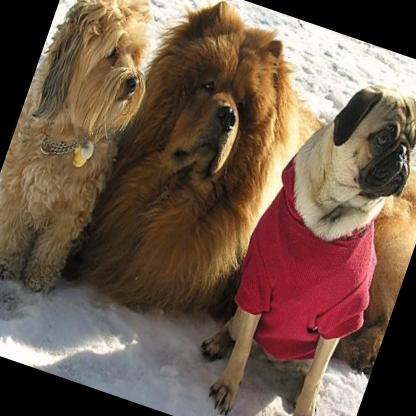chow: (54, 0, 416, 392)
